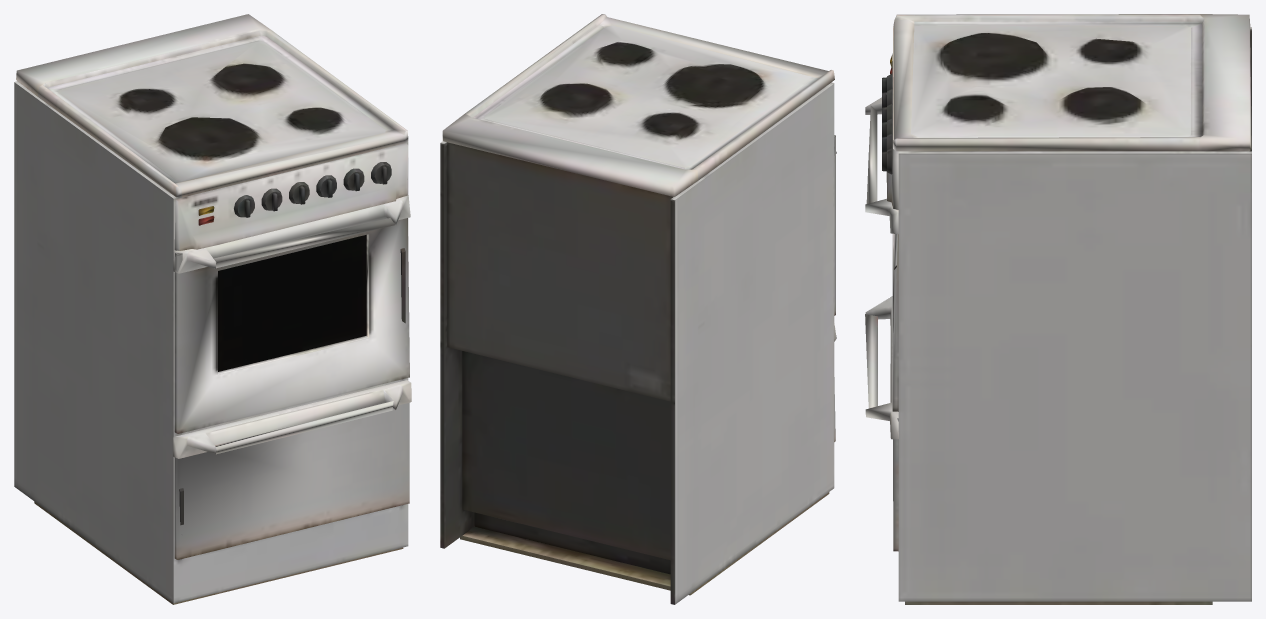
The model's file is electric_stove.714f5d0e.glb.
3 renders of one model, left to right at view 1: azimuth 30°, elevation 25°; view 2: azimuth 150°, elevation 25°; view 3: azimuth 270°, elevation 25°, orthographic. The views are drawn at different scales.
Parts seen in each view (by area): view 1: stovetop, door_top, handle_bottom_attachment; view 2: stovetop; view 3: stovetop, handle_bottom_attachment, door_top.
Boxes of the visible parts, x1,y1,x2,y2 form: stovetop: [14, 14, 408, 604]; door_top: [173, 195, 410, 433]; handle_bottom_attachment: [173, 380, 411, 559]; stovetop: [440, 14, 834, 604]; stovetop: [886, 14, 1251, 604]; handle_bottom_attachment: [865, 296, 898, 551]; door_top: [865, 97, 898, 411].
Bounding box in the file's own units: 0.5026 × 0.8578 × 0.6452.
2 materials, 2 textured.
